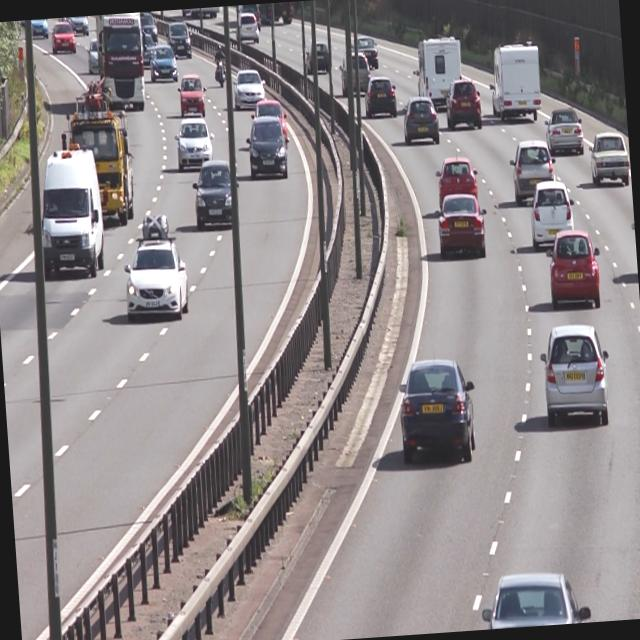Vehicle: (31, 135, 108, 285), (64, 80, 135, 226), (396, 351, 481, 468), (116, 211, 192, 326), (537, 319, 615, 428), (480, 568, 590, 629), (93, 12, 146, 112), (484, 39, 544, 122), (546, 230, 602, 308), (411, 34, 466, 110), (186, 152, 238, 228), (434, 194, 490, 260), (526, 180, 580, 248), (508, 136, 556, 202), (242, 114, 288, 178), (584, 128, 630, 188), (168, 118, 216, 172), (433, 154, 480, 206), (444, 77, 483, 134), (400, 94, 440, 148), (544, 107, 584, 156), (338, 49, 372, 100), (230, 64, 264, 114), (362, 74, 396, 120), (176, 72, 208, 116), (146, 44, 178, 85), (46, 21, 77, 60)
